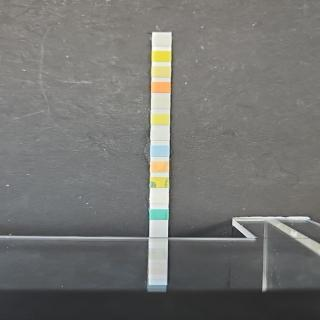mark: (150, 160, 168, 173), (150, 128, 168, 141), (150, 208, 168, 220), (150, 176, 168, 188), (152, 66, 170, 78), (152, 50, 170, 62), (152, 112, 168, 125), (151, 144, 168, 156), (152, 96, 169, 108), (153, 34, 170, 46), (152, 81, 169, 92), (150, 193, 168, 203)
